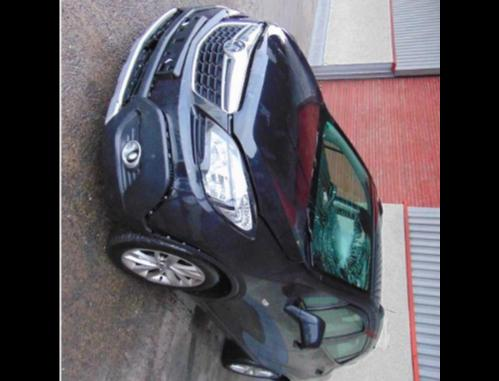Broken part: (225, 21, 295, 262), (122, 9, 183, 108), (141, 74, 176, 236)
Cracked: (311, 121, 372, 292)
Missing part: (155, 14, 202, 72)
